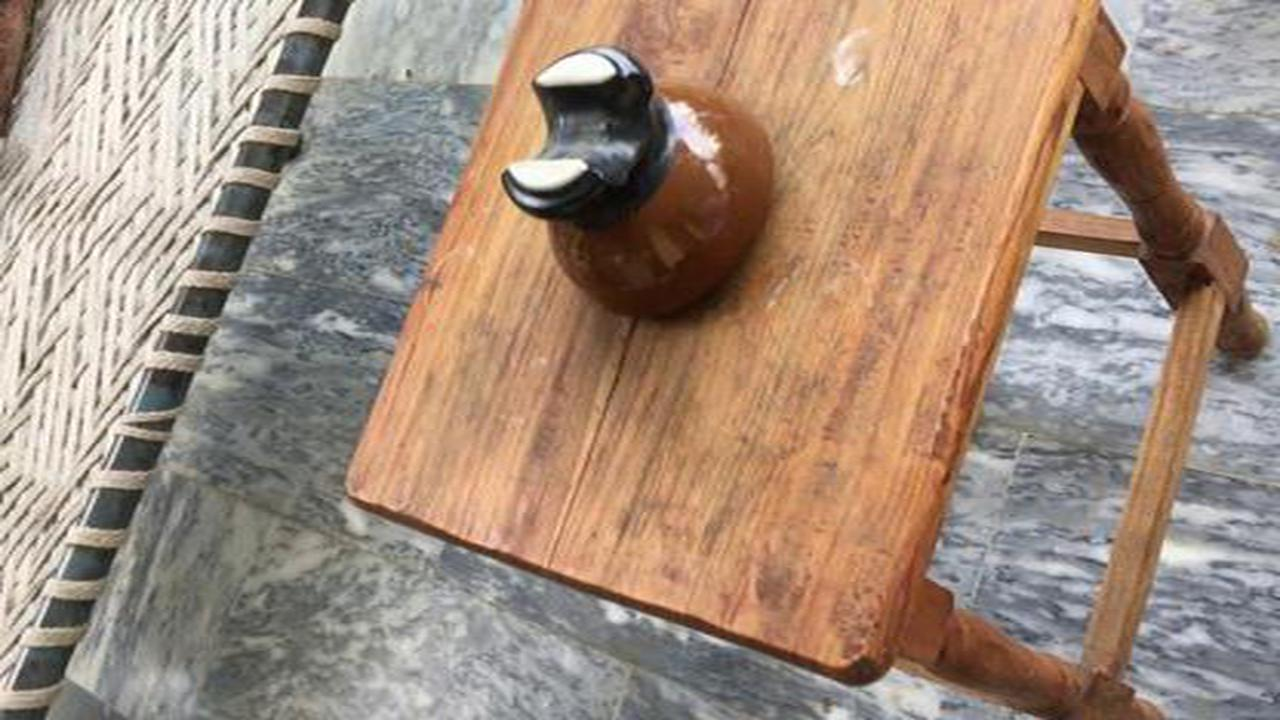insulator_pin: (480, 37, 791, 340)
